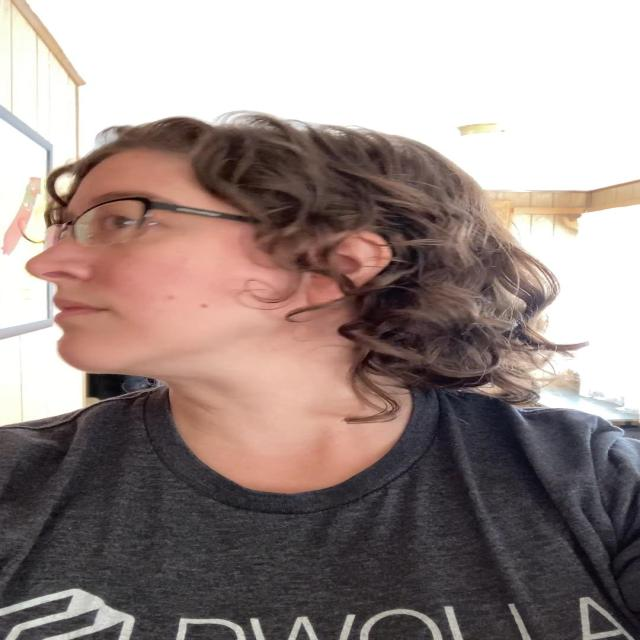no-helmet: (26, 142, 305, 378)
